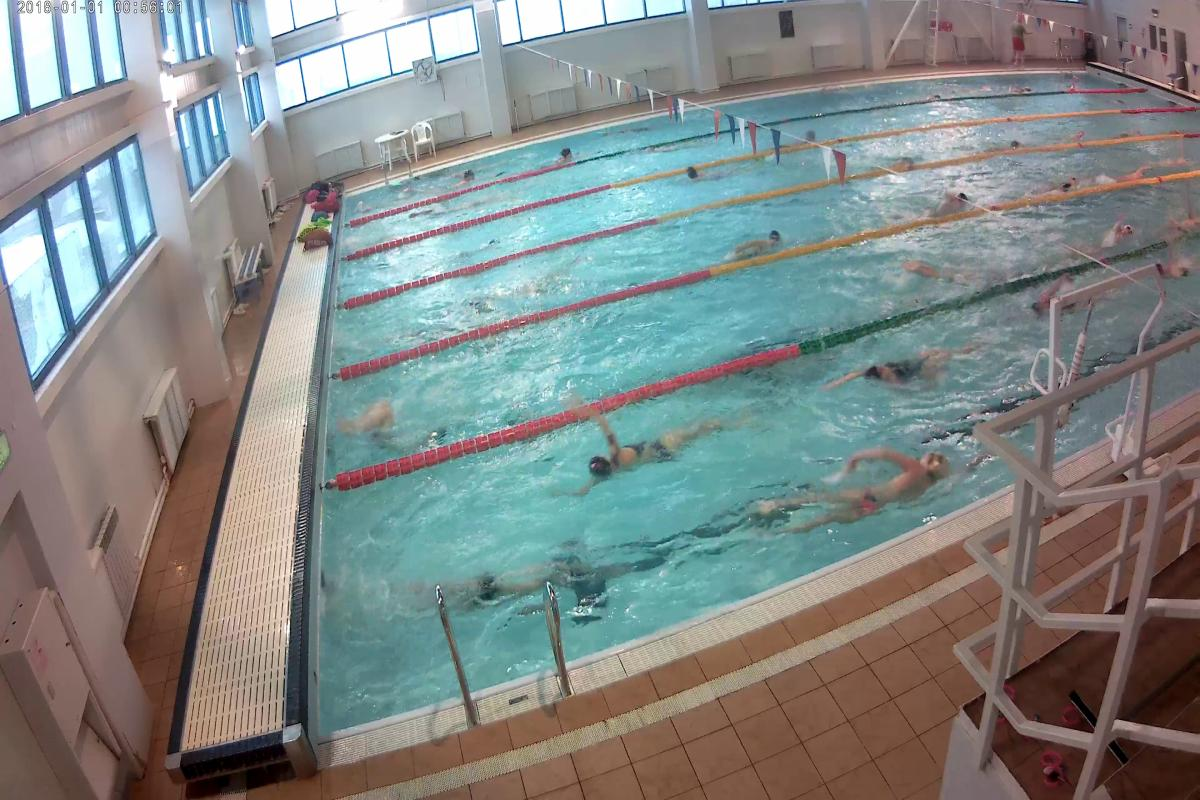swimmer: (567, 407, 755, 489), (772, 445, 947, 528), (398, 546, 573, 617), (837, 336, 977, 399), (342, 394, 438, 459), (732, 223, 791, 254), (1099, 224, 1136, 252), (1164, 242, 1192, 279), (933, 188, 974, 210)
